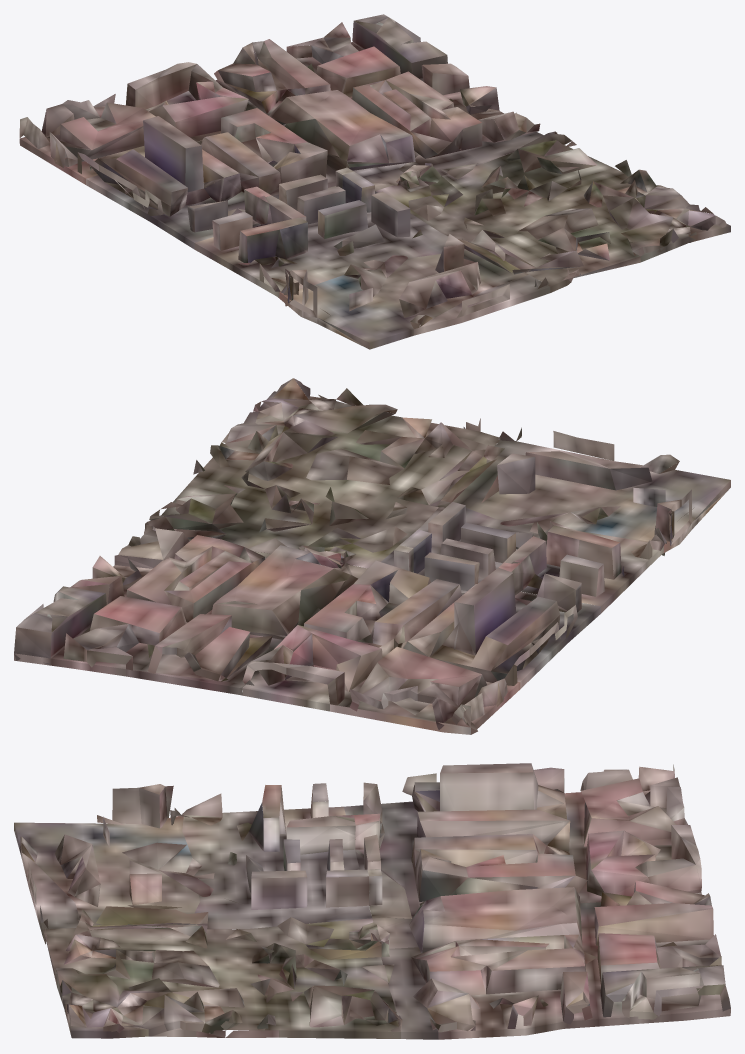
The picture shows the model from 3 angles, top to bottom: view 1: azimuth 30°, elevation 25°; view 2: azimuth 150°, elevation 25°; view 3: azimuth 270°, elevation 25°; orthographic projection. The views are drawn at different scales.
Parts seen in each view (by area): view 1: Mesh_0; view 2: Mesh_0; view 3: Mesh_0.
Part boxes in pixels (bbox=[...]): Mesh_0: bbox=[19, 14, 730, 349]; Mesh_0: bbox=[14, 378, 730, 734]; Mesh_0: bbox=[14, 763, 730, 1039].
Bounding box in the file's own units: 540 × 84.01 × 659.
Materials: 2 (2 with a texture image).
